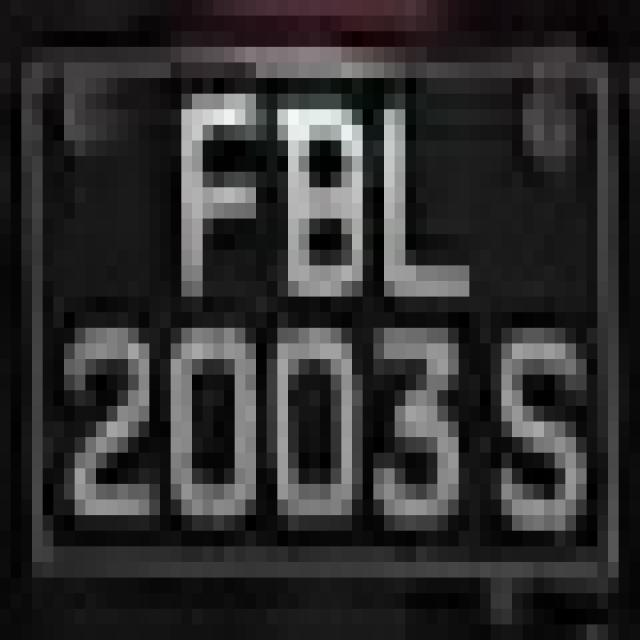0: (235, 250, 384, 515), (139, 296, 245, 546)
2: (21, 266, 192, 594)
3: (352, 296, 469, 546)
B: (245, 16, 331, 312)
F: (149, 47, 288, 343)
L: (352, 78, 523, 343)
S: (480, 266, 619, 578)
